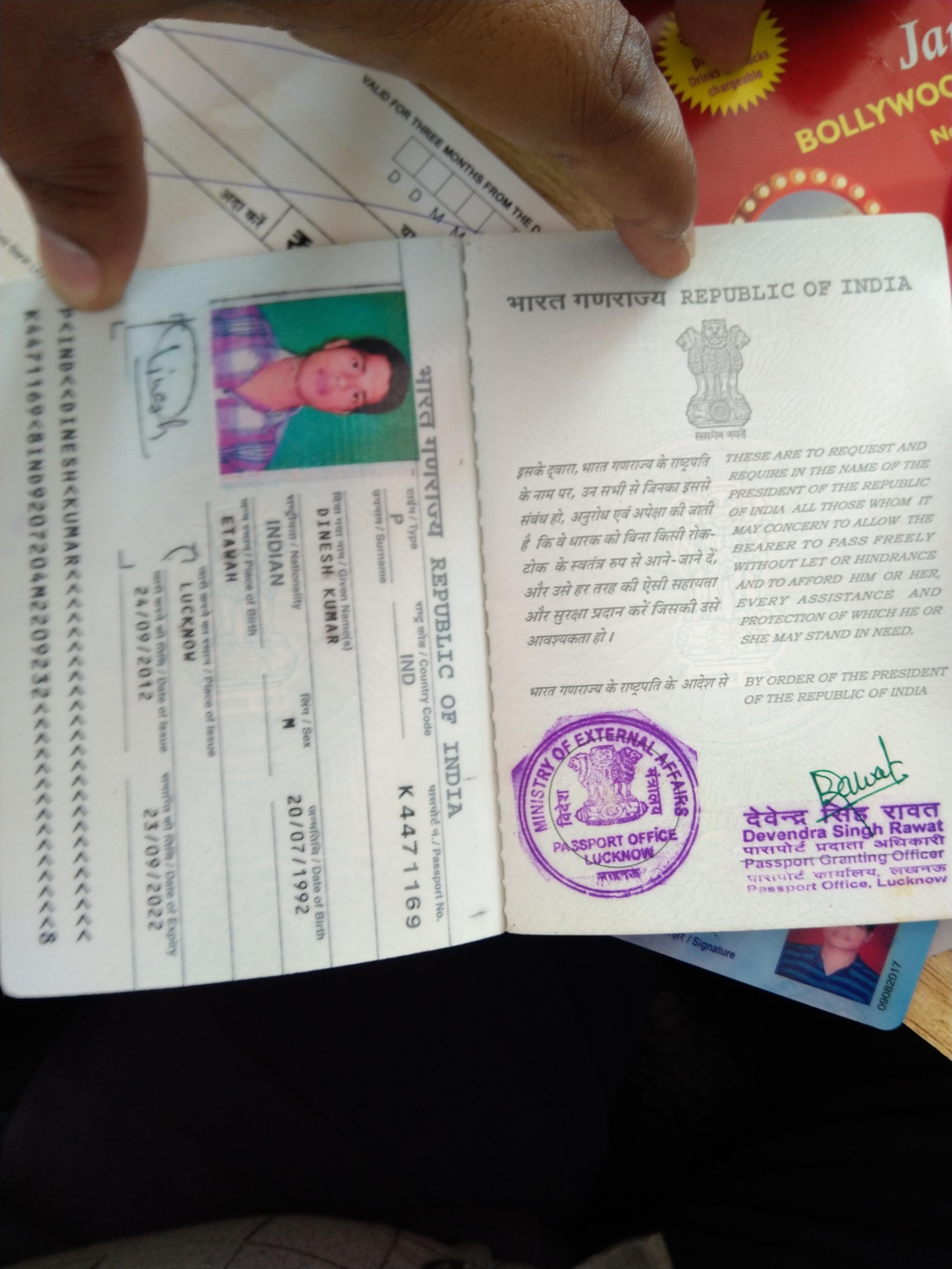DOB: (281, 783, 316, 917)
country_code: (393, 646, 420, 689)
date_of_expiry: (130, 795, 168, 935)
date_of_issue: (127, 575, 156, 710)
details: (12, 302, 102, 956)
name: (304, 501, 344, 649)
nationality: (257, 509, 290, 594)
passport_no: (384, 777, 427, 938), (17, 303, 48, 431)
photo: (209, 295, 416, 475)
place_of_birth: (212, 509, 245, 593)
place_of_issue: (171, 574, 204, 666)
sex: (278, 707, 302, 740)
sign: (127, 311, 190, 449)
type: (389, 501, 407, 536)
